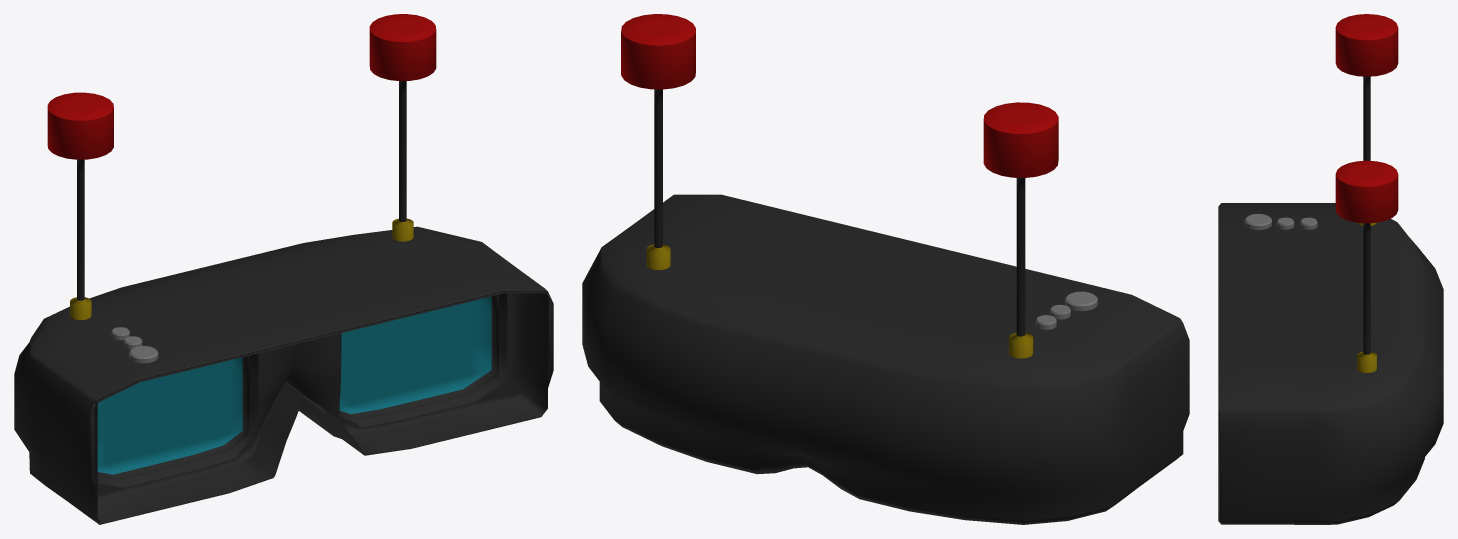
Rendered from FPVGoggles.fbx.
The picture shows the model from 3 angles, left to right: view 1: azimuth 30°, elevation 25°; view 2: azimuth 150°, elevation 25°; view 3: azimuth 270°, elevation 25°; orthographic projection. The views are drawn at different scales.
Visible parts, largest first — view 1: pasted__pCylinder3; view 2: pasted__pCylinder3; view 3: pasted__pCylinder3.
Boxes of the visible parts, x1,y1,x2,y2 form: pasted__pCylinder3: [14, 14, 553, 524]; pasted__pCylinder3: [582, 14, 1189, 524]; pasted__pCylinder3: [1218, 14, 1443, 524].
Size of the model in its own units: 1042 by 745 by 467.
